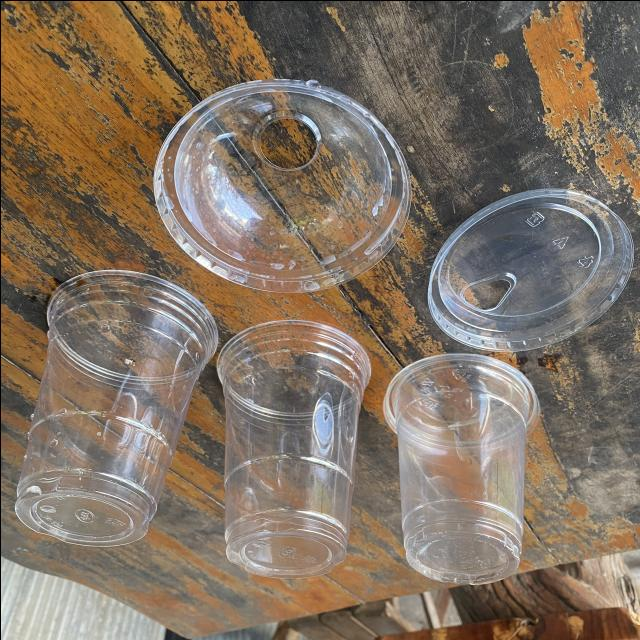plastik: (14, 269, 217, 545), (154, 78, 410, 292), (217, 320, 370, 577), (384, 353, 538, 583), (428, 188, 632, 351)
